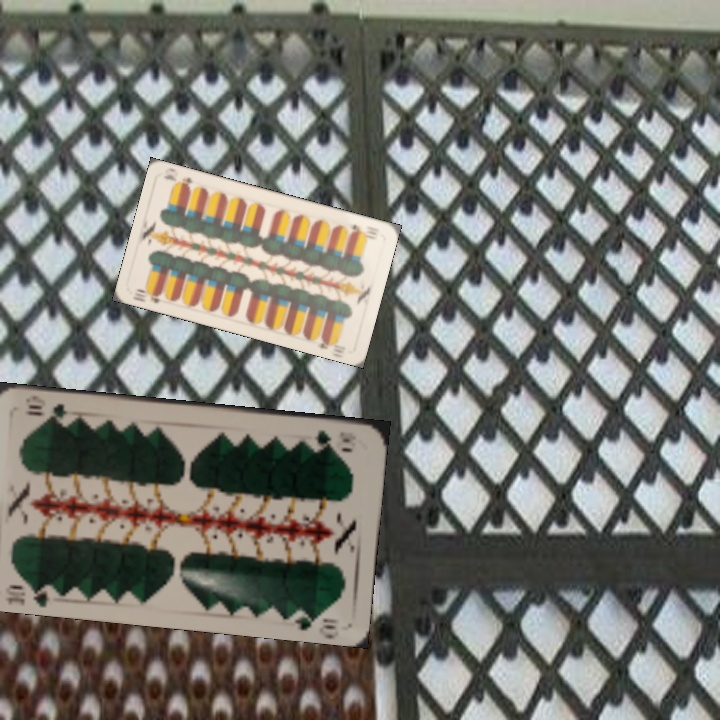E10: (133, 285, 164, 306), (348, 220, 379, 238)
G10: (1, 578, 56, 608), (312, 426, 353, 450)
